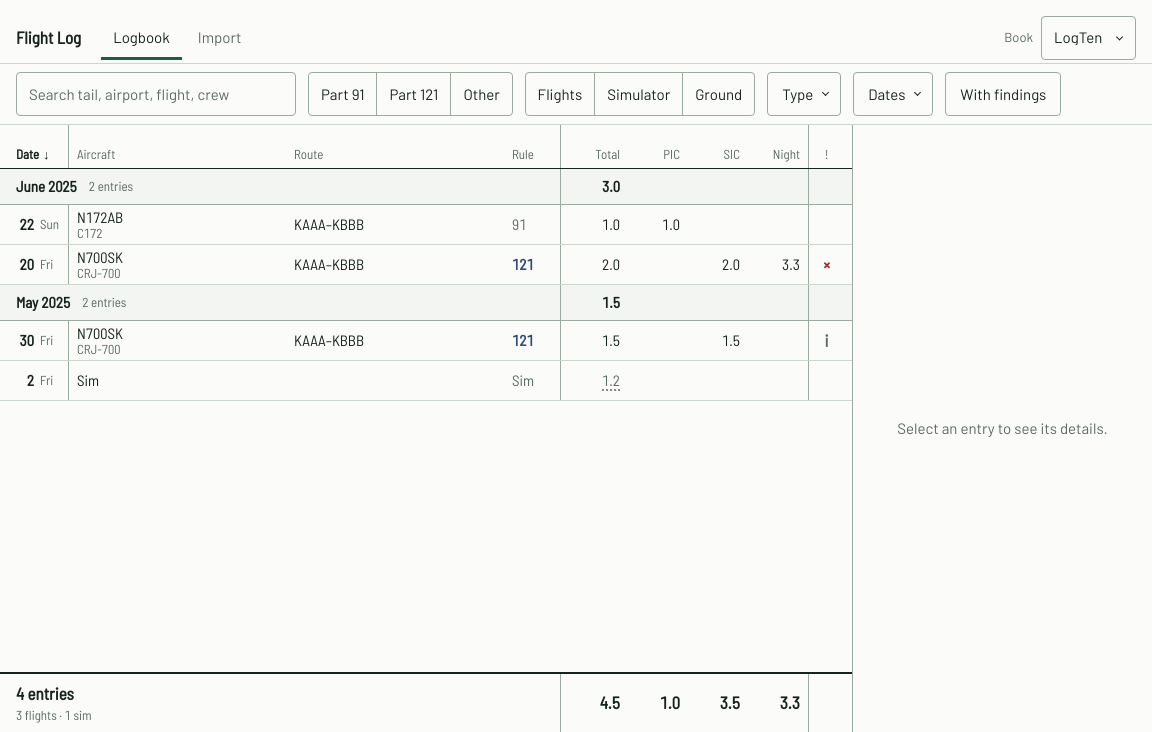
Scenario: Logbook screen › shows the detail and findings of the selected entry, and closes with Escape
This screenshot has width=1152, height=732.
Click the row "20 Fri N700SK CRJ-700 KAAA–KBBB 121 2.0 2.0 3.3 ×" at (426, 265), box [0, 245, 852, 285]
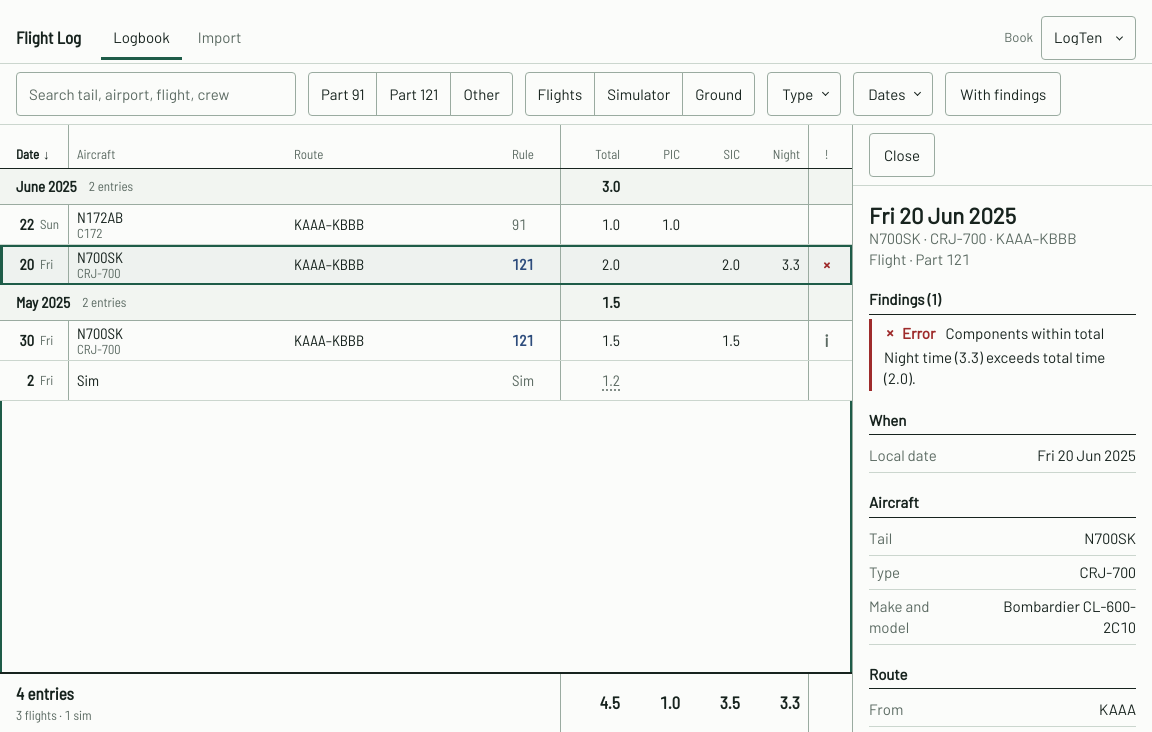
Check: the heading "Fri 20 Jun 2025" is shown, box [869, 202, 1016, 228]
Check: the text "N700SK · CRJ-700 · KAAA–KBBB" is shown, box [869, 229, 1077, 247]
Check: the text "Bombardier CL-600-2C10" is shown, box [982, 596, 1136, 638]
Press Escape
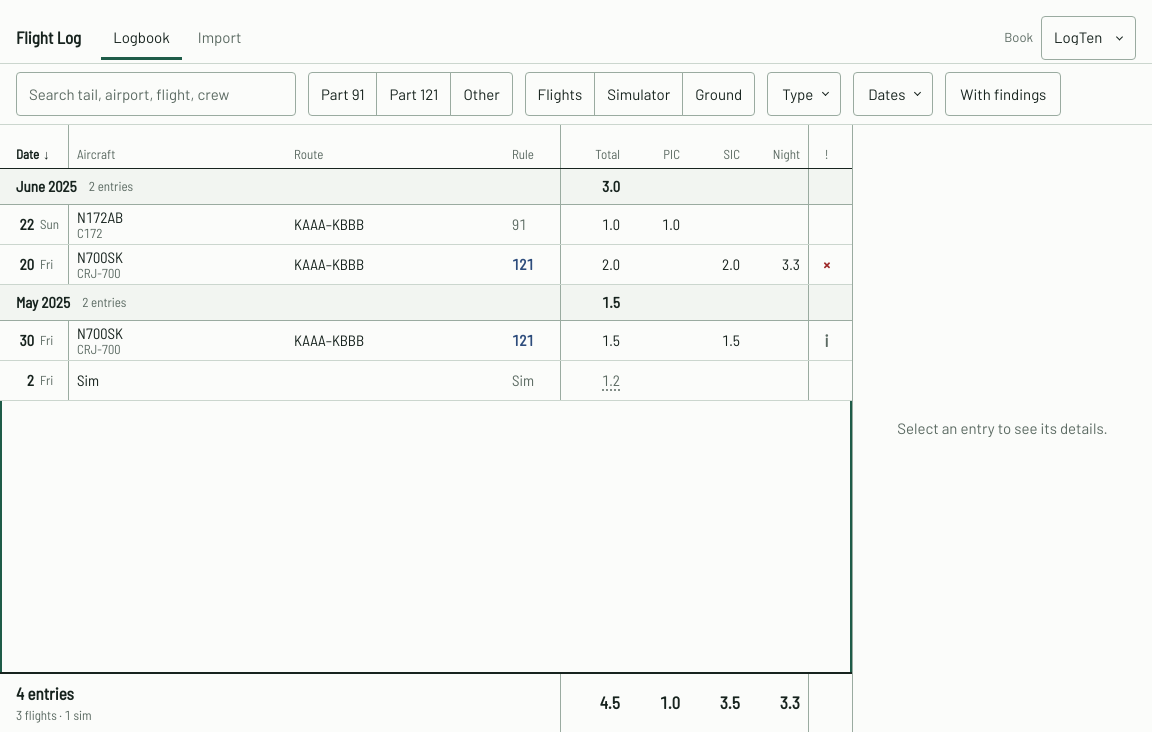
Check: the heading "Fri 20 Jun 2025" is gone
Check: the text "Select an entry to see its details." is shown, box [897, 418, 1108, 439]
